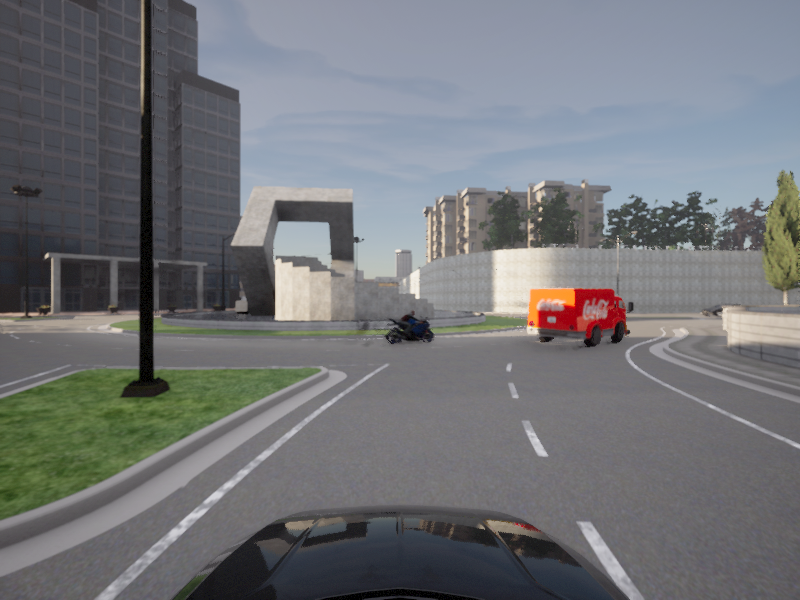vehicle: (522, 287, 638, 350), (384, 309, 437, 346)
